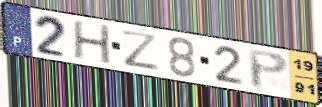2: (32, 14, 71, 62), (212, 44, 246, 86)
8: (167, 36, 196, 78)
H: (71, 20, 113, 67)
P: (246, 47, 291, 91)
Z: (119, 28, 161, 72)
